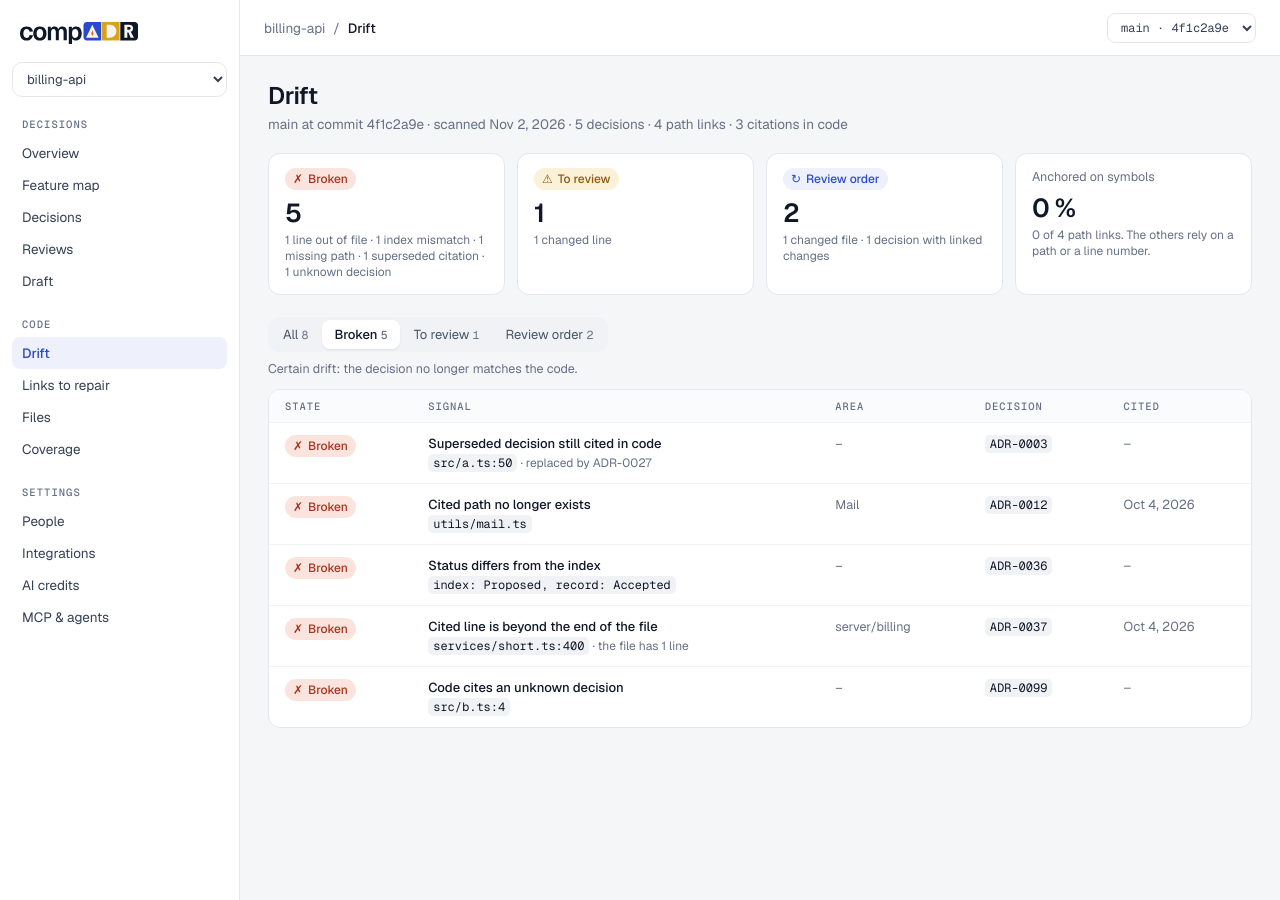
Scenario: the drafts of a repository › lists the other drafts and fills the one the person picks
Click the button "Draft" at (120, 281), box top-left (12, 265), bottom-right (227, 297)
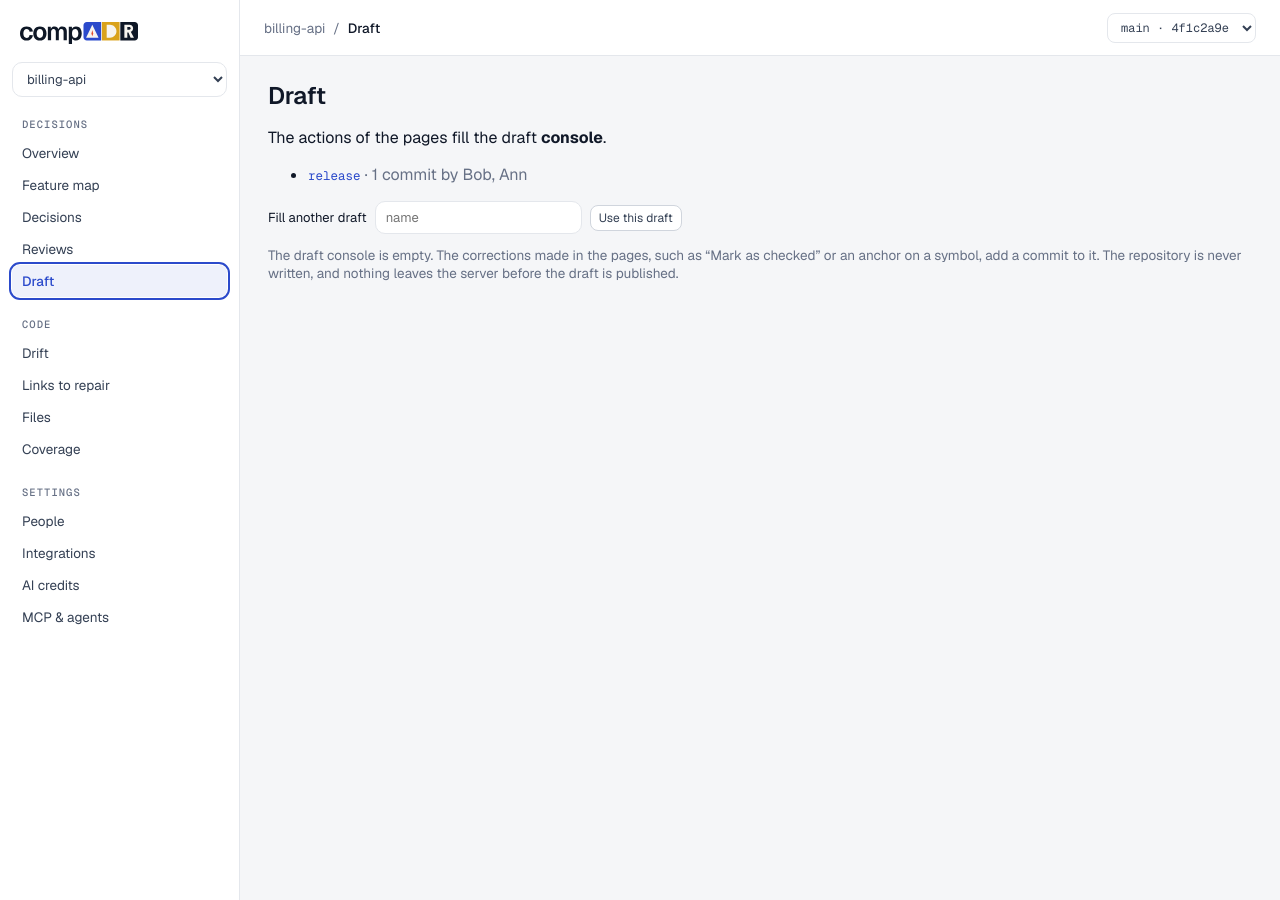
Check: the list item "release · 1 commit by Bob, Ann" is shown, box top-left (308, 164), bottom-right (528, 185)
Click the button "release" at (334, 176), box top-left (308, 167), bottom-right (360, 184)
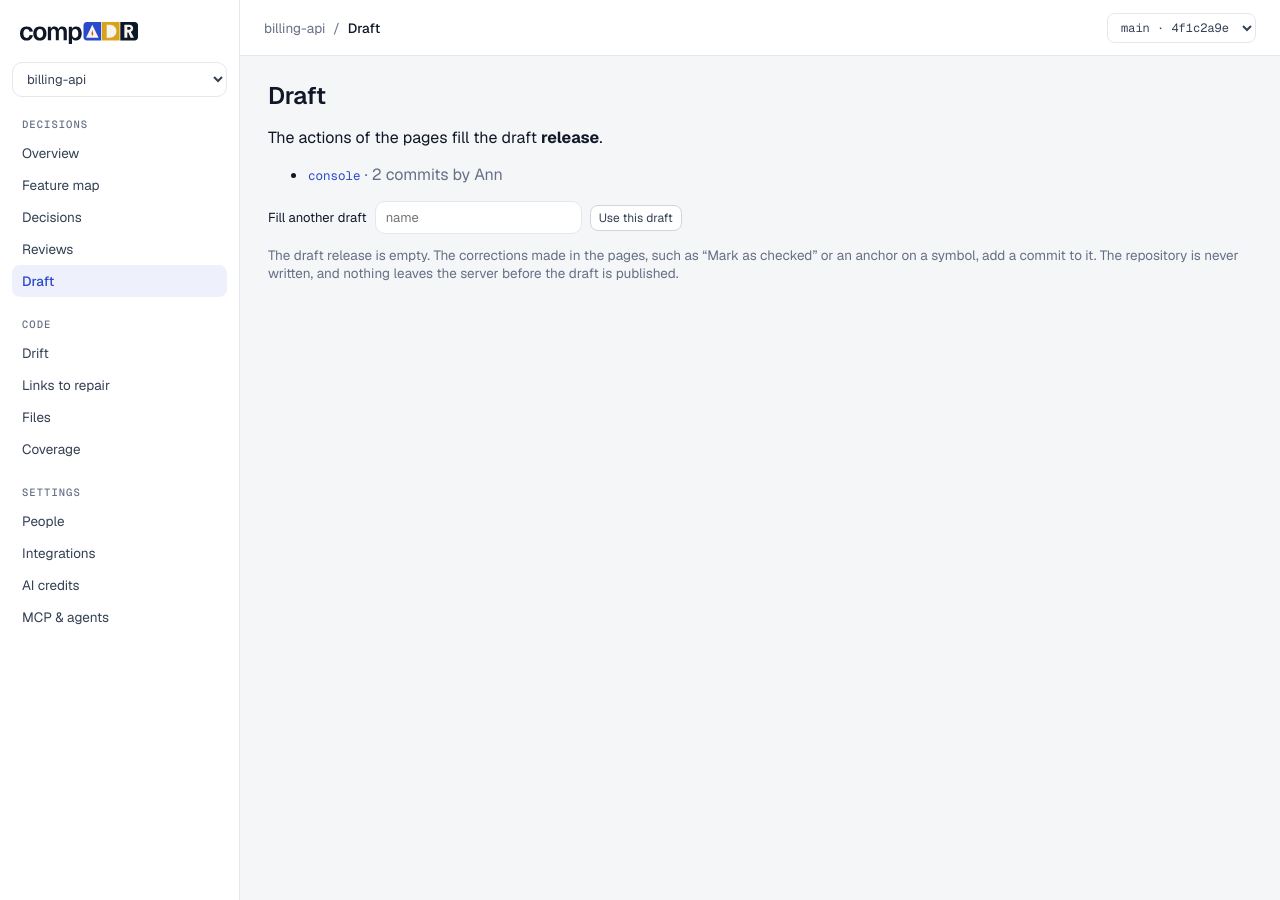
Type "hotfix" into the field labelled "Fill another draft" at (478, 218), box top-left (375, 201), bottom-right (582, 234)
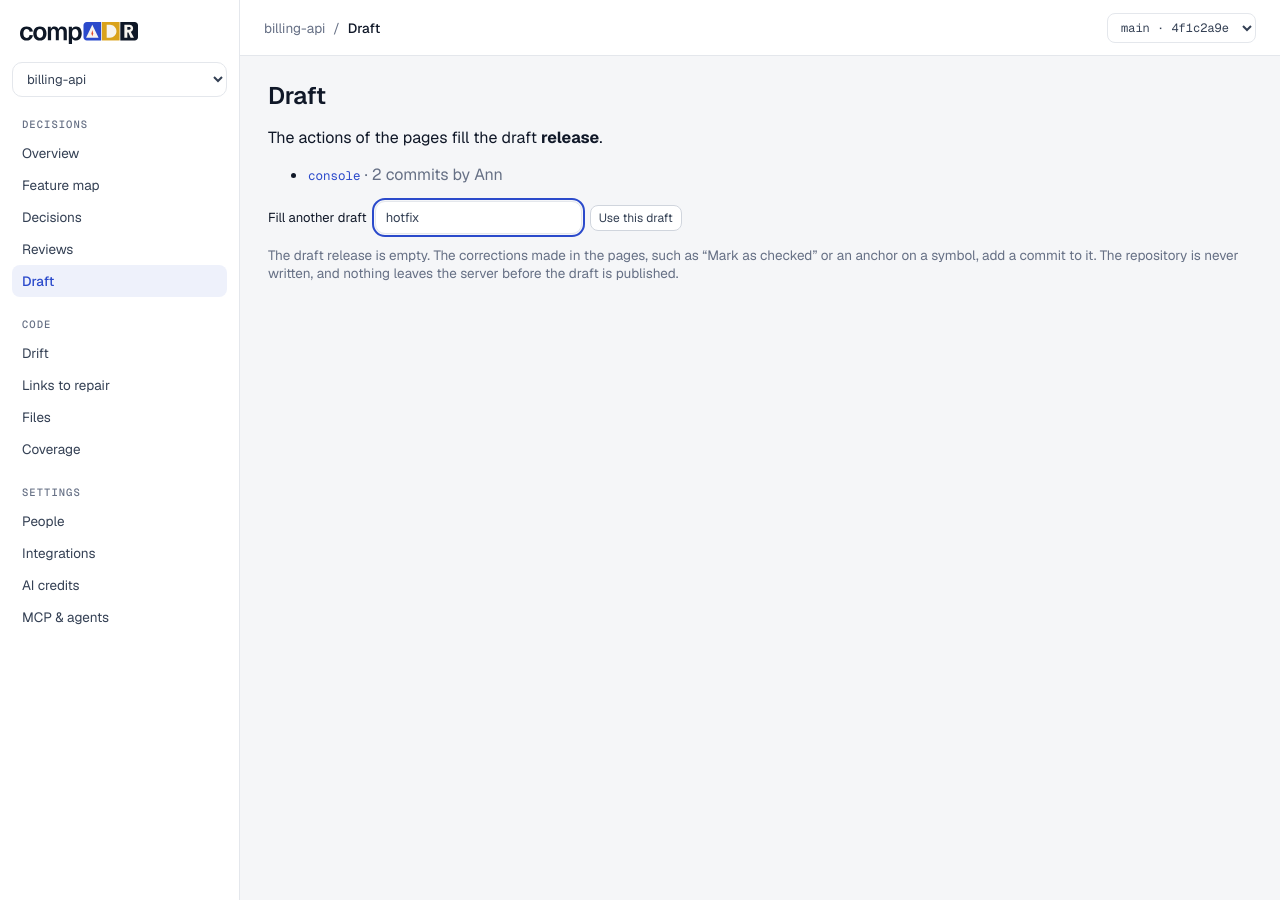
Click the button "Use this draft" at (636, 218), box top-left (590, 204), bottom-right (682, 230)
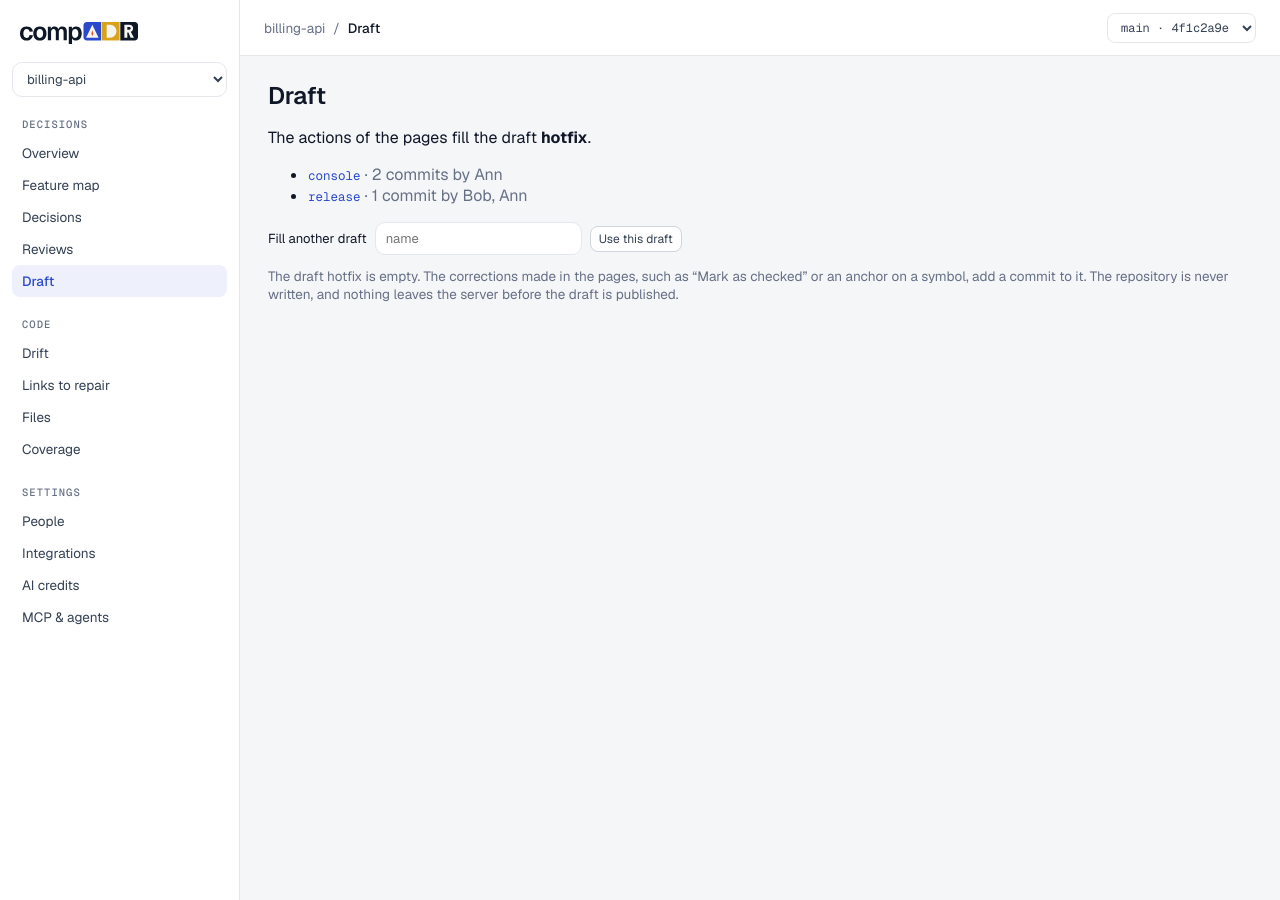
Check: the text "hotfix" is shown, box top-left (541, 127), bottom-right (588, 148)
